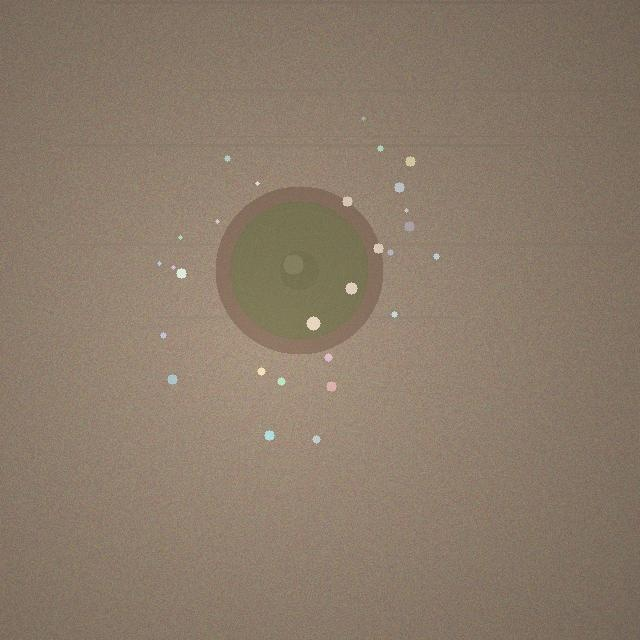overburn: (215, 186, 383, 354)
